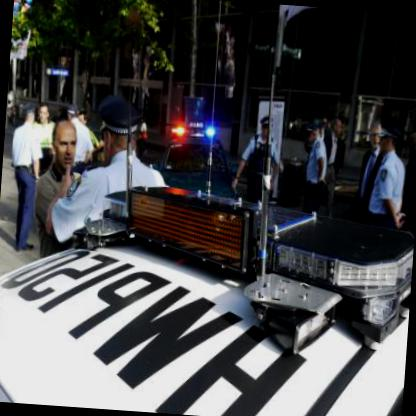car: (146, 121, 243, 200)
